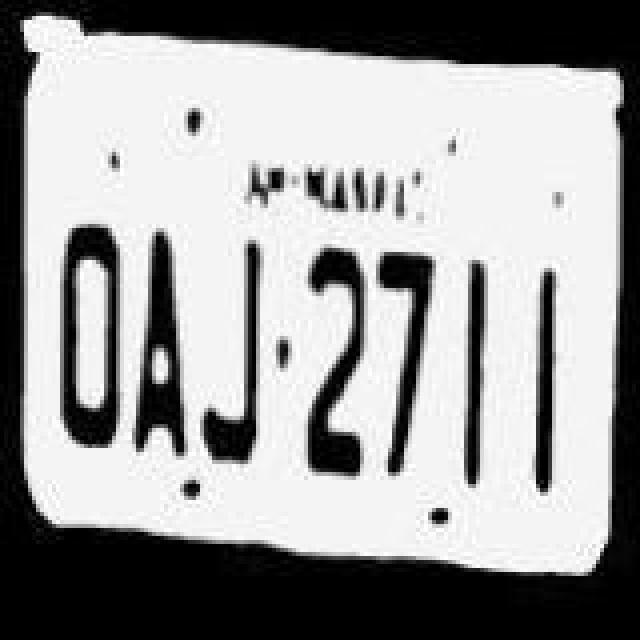1: (524, 244, 576, 508), (456, 254, 508, 502)
2: (296, 240, 372, 492)
7: (372, 238, 440, 494)
A: (132, 226, 200, 478)
J: (198, 228, 278, 480)
O: (56, 216, 132, 472)
